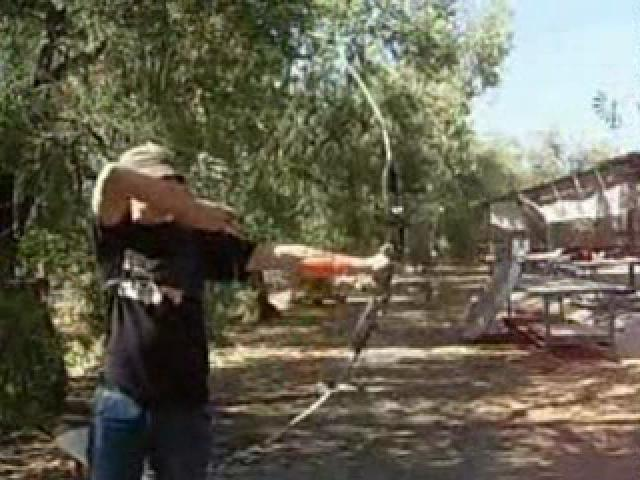I: (48, 128, 388, 480)
